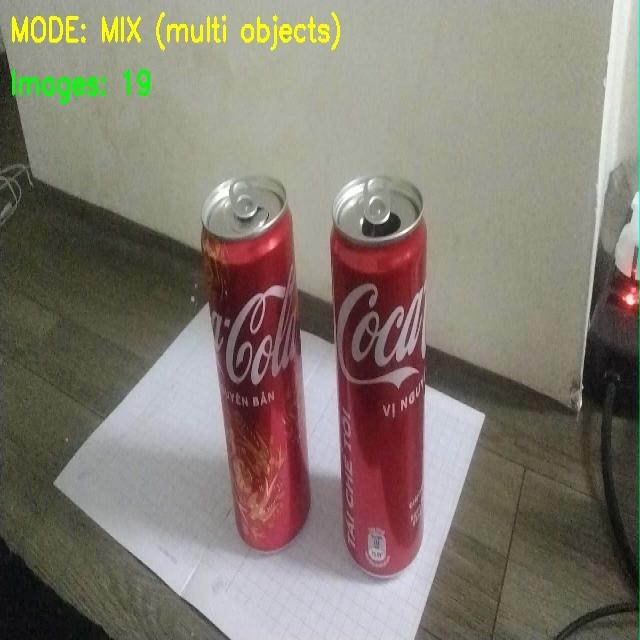Coca: (186, 173, 312, 564)
Coca_open: (328, 179, 471, 571)
